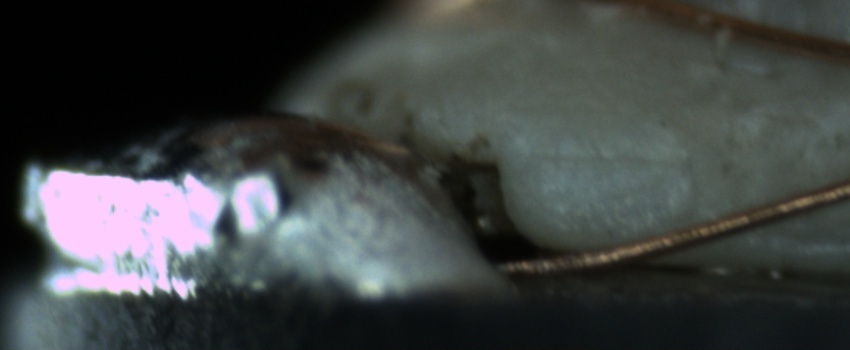DL: (530, 128, 682, 186)
